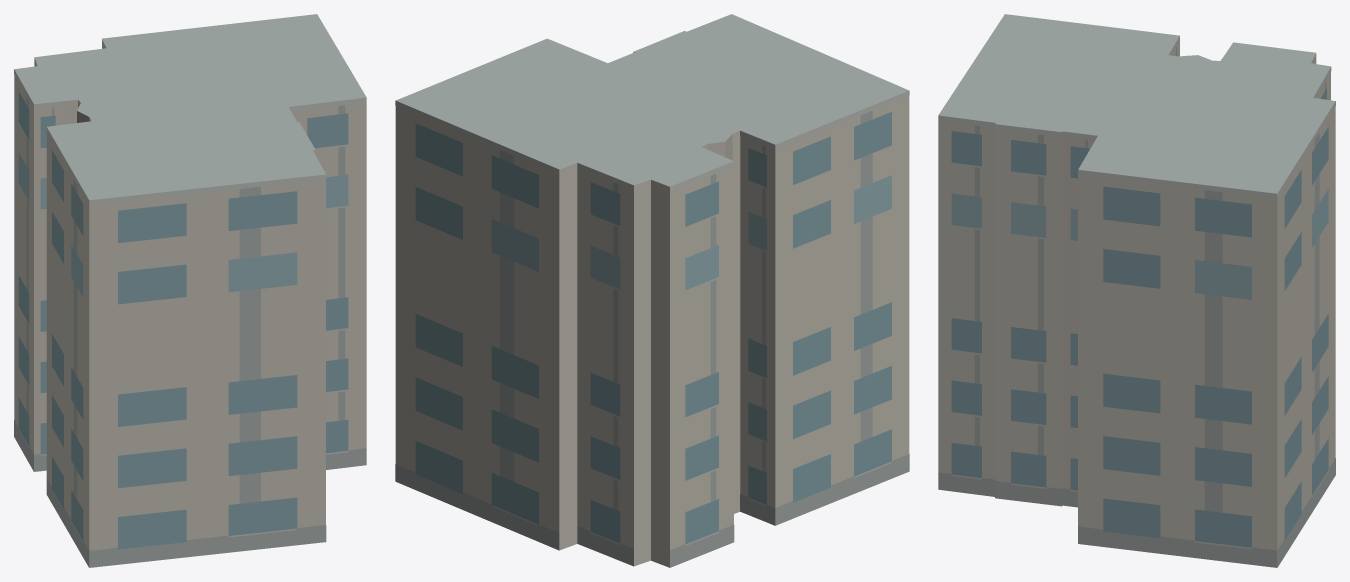
The model's file is survey-upis-32874494.glb.
The picture shows the model from 3 angles, left to right: view 1: azimuth 30°, elevation 25°; view 2: azimuth 150°, elevation 25°; view 3: azimuth 270°, elevation 25°; orthographic projection. The views are drawn at different scales.
Parts seen in each view (by area): view 1: survey-upis-32874494.tmp; view 2: survey-upis-32874494.tmp; view 3: survey-upis-32874494.tmp.
Boxes of the visible parts, box(x1,y1,x2,y2) form: survey-upis-32874494.tmp: box(14, 14, 366, 567); survey-upis-32874494.tmp: box(395, 14, 909, 567); survey-upis-32874494.tmp: box(938, 14, 1335, 567).
Bounding box in the file's own units: 18.14 × 17.6 × 16.96.
